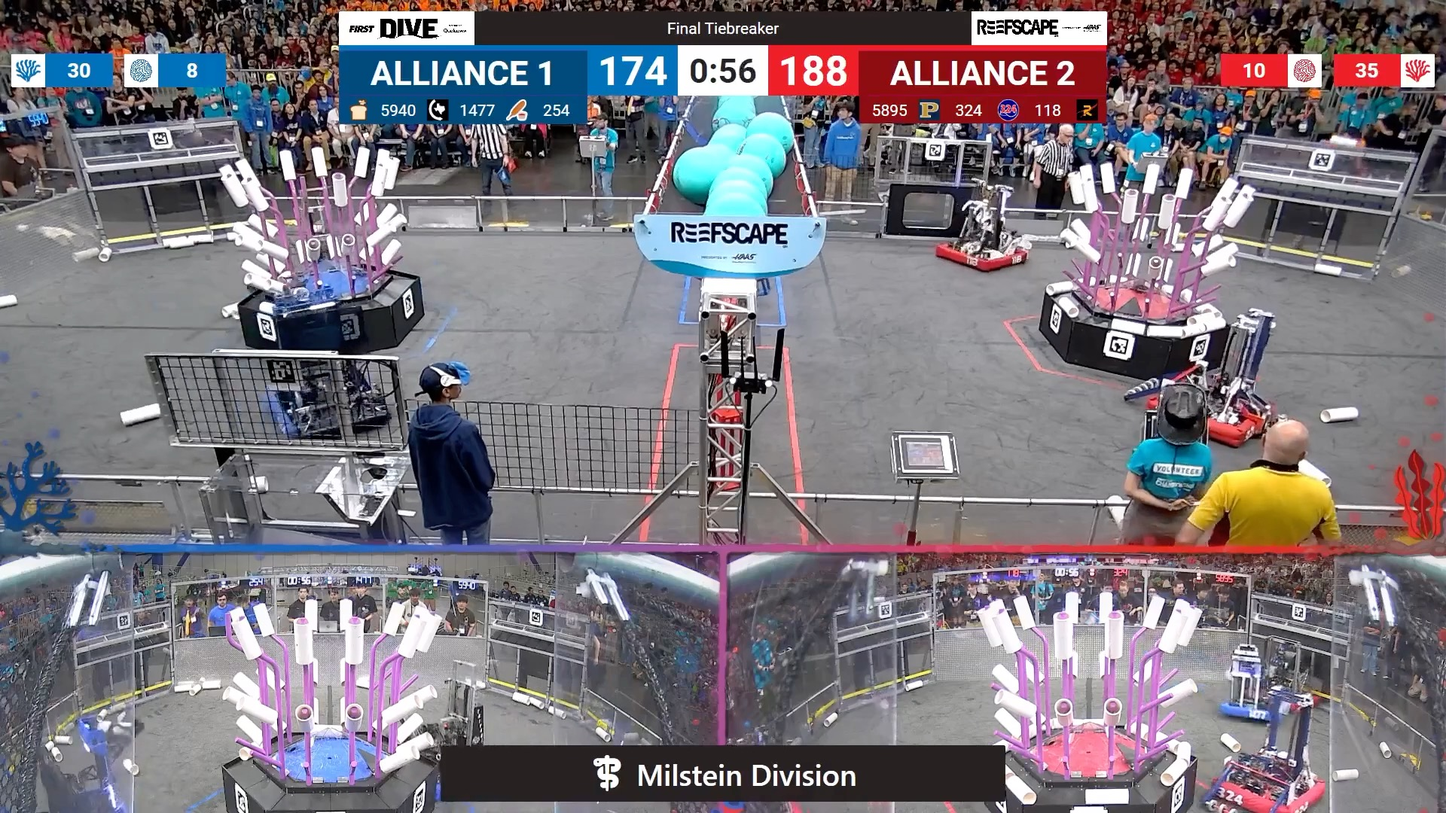bumpers: (1141, 386, 1291, 455), (257, 377, 380, 447), (1205, 761, 1328, 813), (931, 240, 1038, 278), (1211, 690, 1291, 726)
